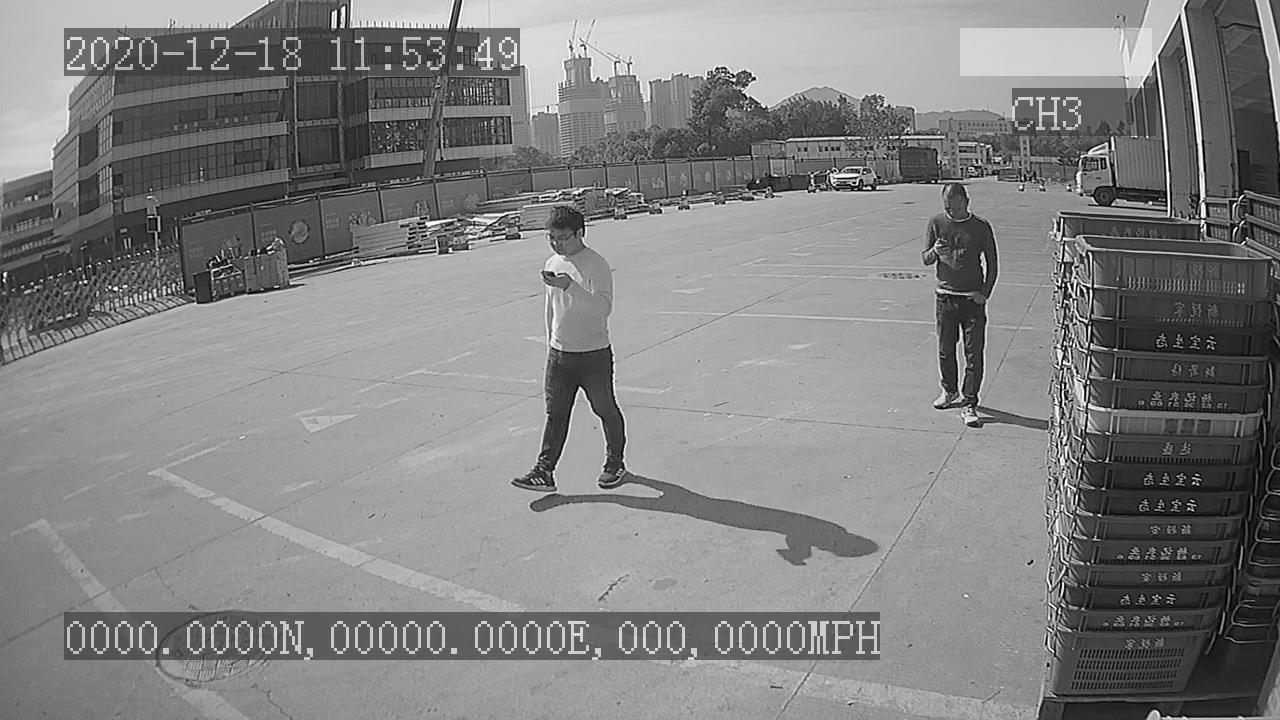person: (506, 208, 634, 501), (917, 183, 1004, 435)
